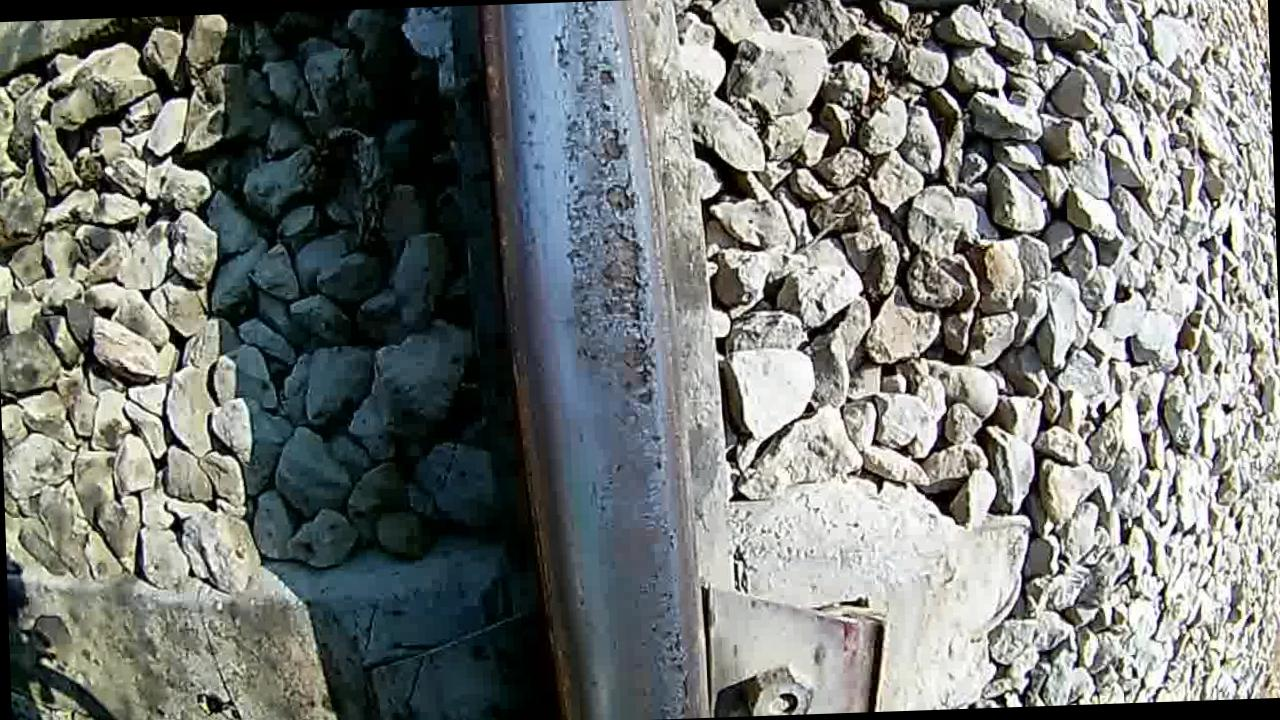crack: (503, 0, 707, 720)
